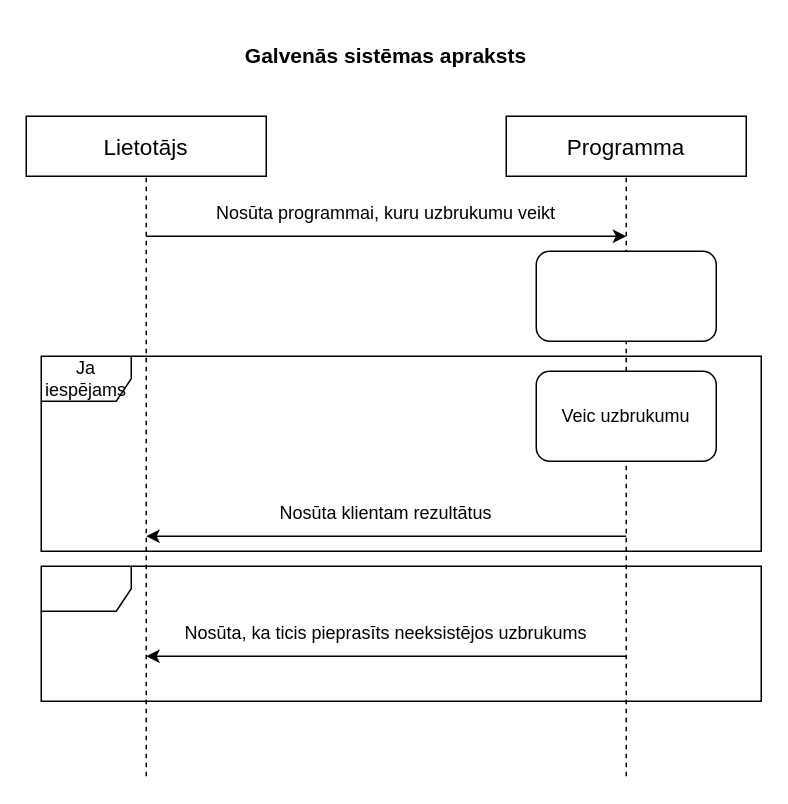
The diagram is 788 pixels wide and 804 high, and some of its shapes have lost their labels. Each missing label, with the centre of its shape:
"Ja nav iespējams" belongs at (400,633).
"Pārbauda, vai šis uzbrukums ir iespējams" belongs at (625,295).
